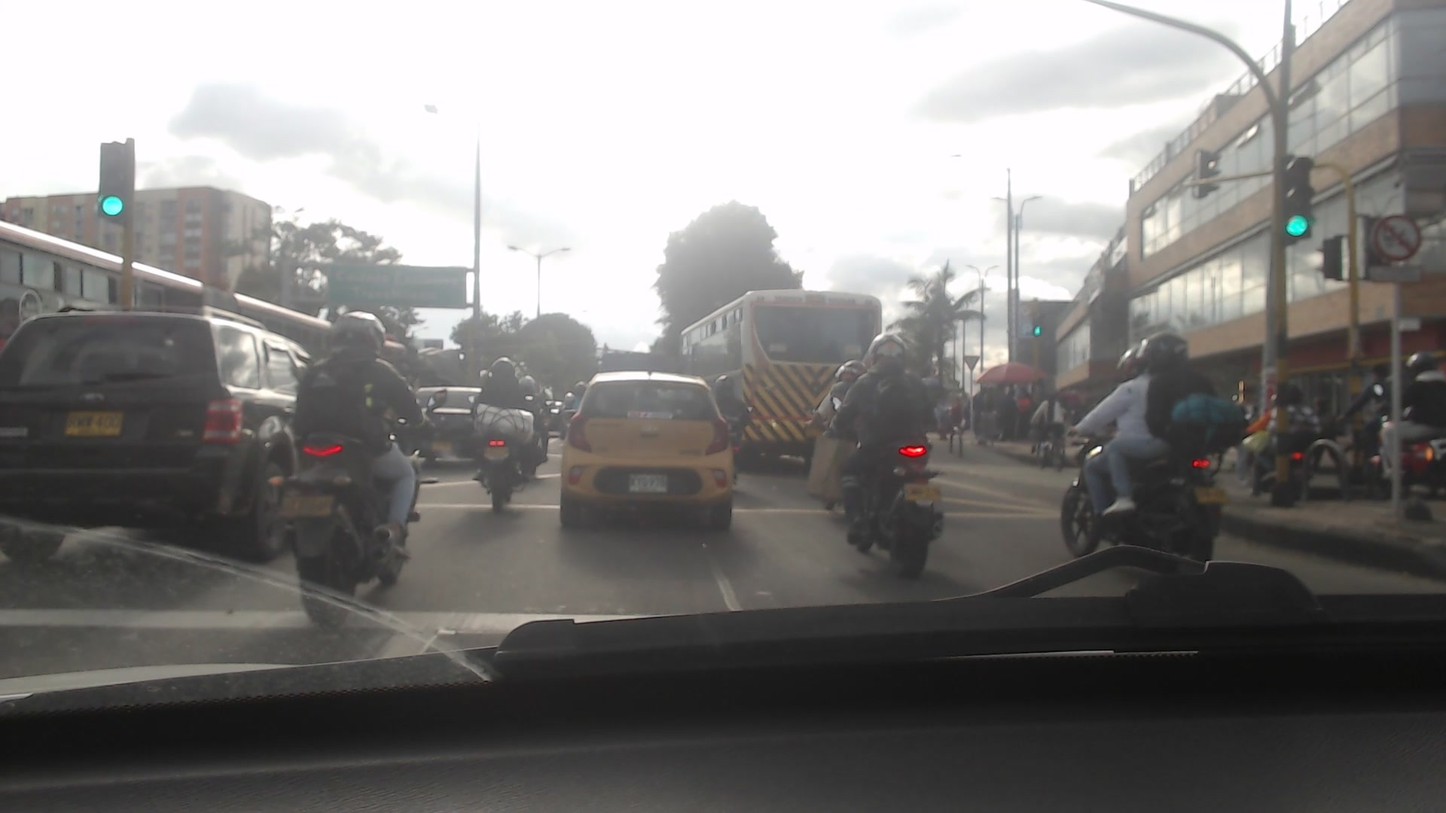car: (0, 313, 307, 558), (563, 372, 735, 535)
motorcycle: (1042, 428, 1234, 580), (294, 431, 429, 618), (825, 443, 953, 583), (471, 431, 528, 519)
person: (665, 282, 888, 456), (306, 304, 419, 577), (1091, 332, 1221, 518), (830, 330, 936, 509), (477, 348, 535, 492)
